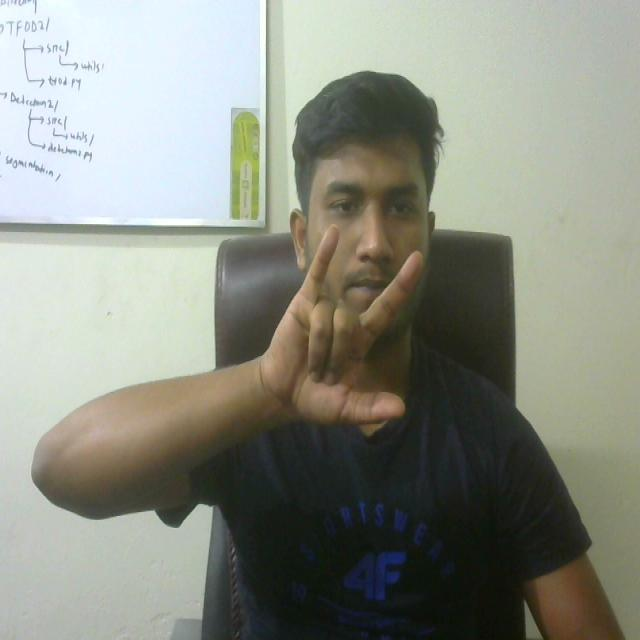I Love You: (263, 204, 436, 443)
